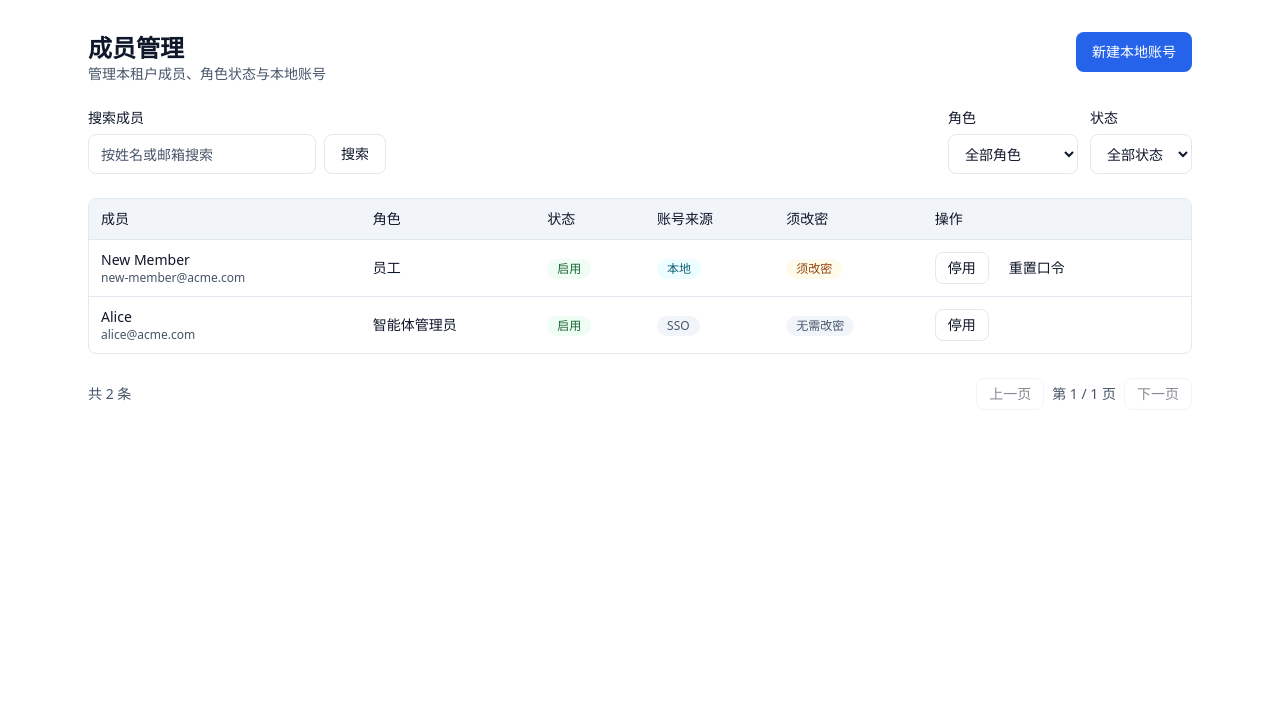
Test case: MemberListPage roster › opens the password reset dialog for a local account
expect the text "new-member@acme.com" is shown: met, box [101, 269, 245, 286]
Click the button "重置口令". click: (1037, 268)
box: [997, 252, 1077, 284]
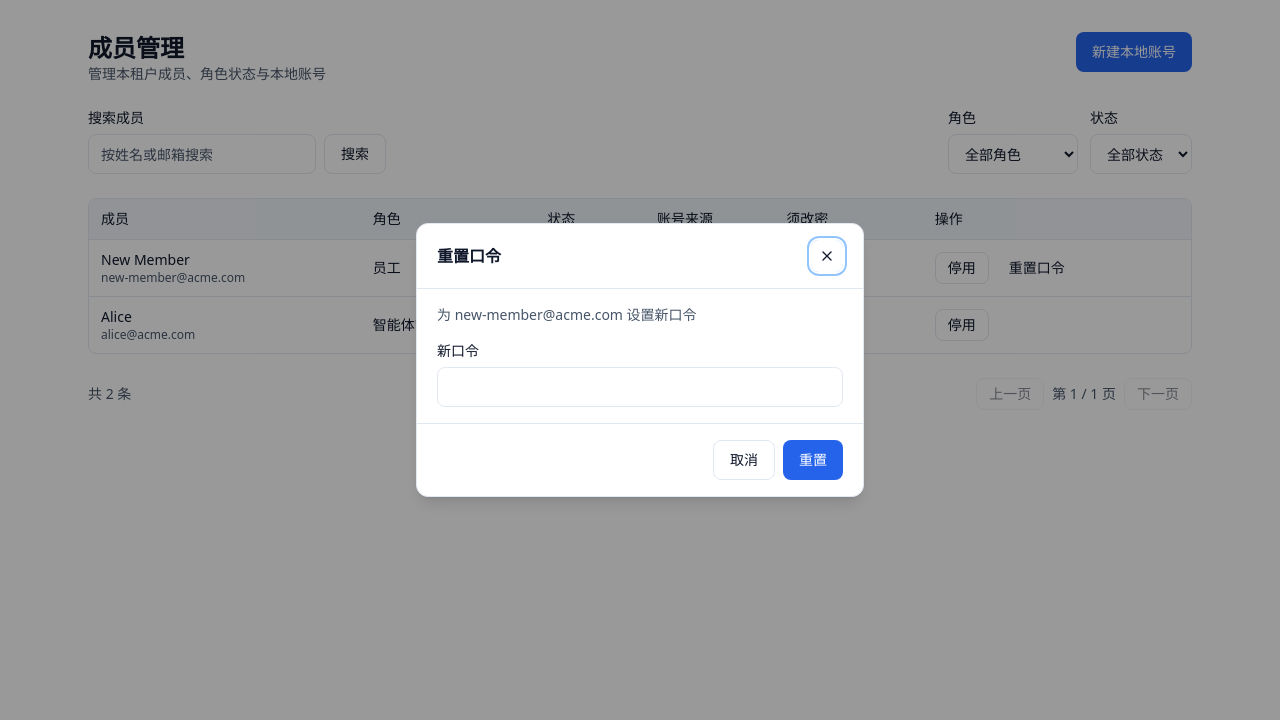
expect the password field labelled "新口令" is shown: met, box [437, 367, 843, 407]
